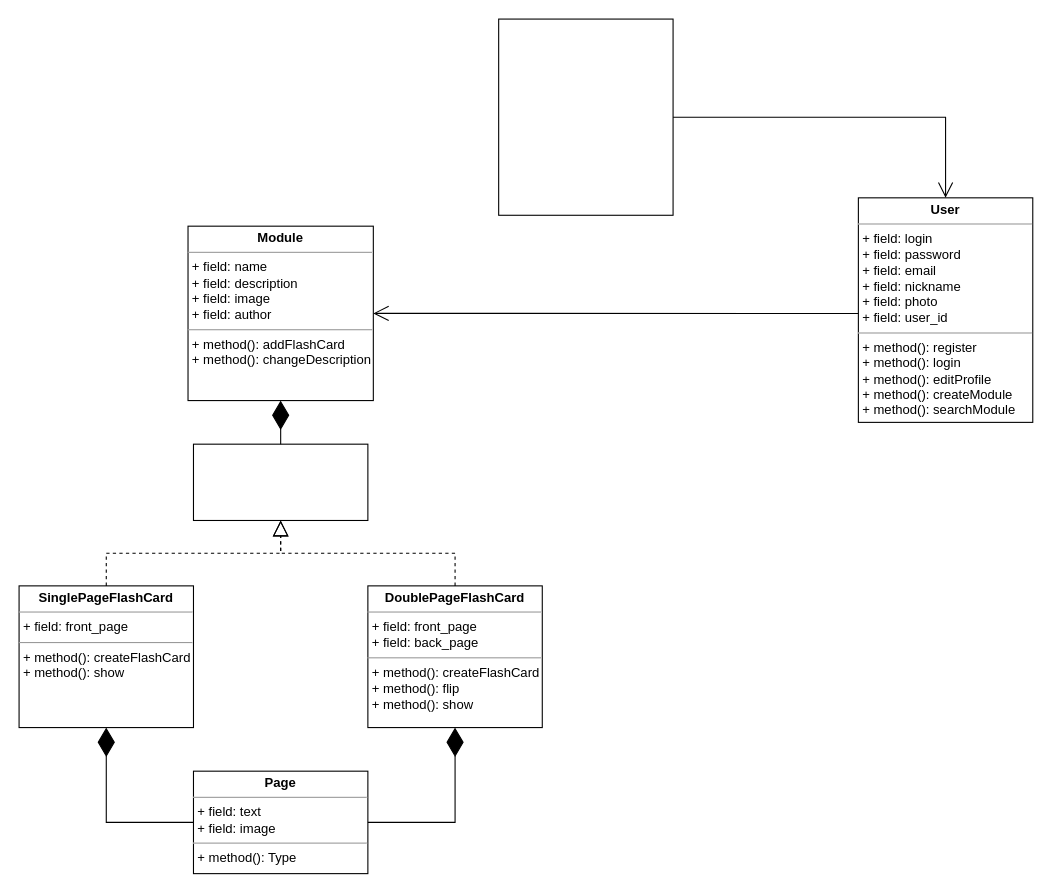
Some shapes in this 1052 by 893 pixel diagram are drawn without their labels. Here are the shapes that lost their labels. From the top down, the centre of each, then its label:
At pixel 585 116: "App + field: Type + method(): manage_users".
At pixel 280 481: "IFlashCard + method(): createFlashCard + method(): show".
